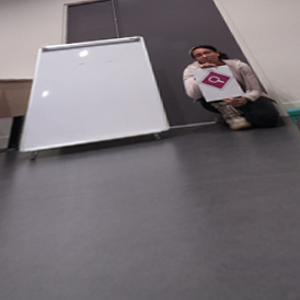search: (201, 70, 231, 90)
